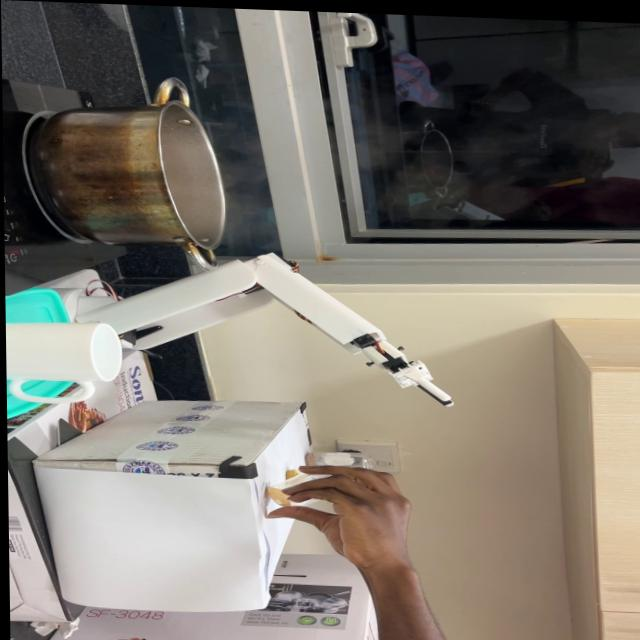cooking_pot: (25, 75, 235, 274)
garlic_powder: (262, 484, 284, 505)
